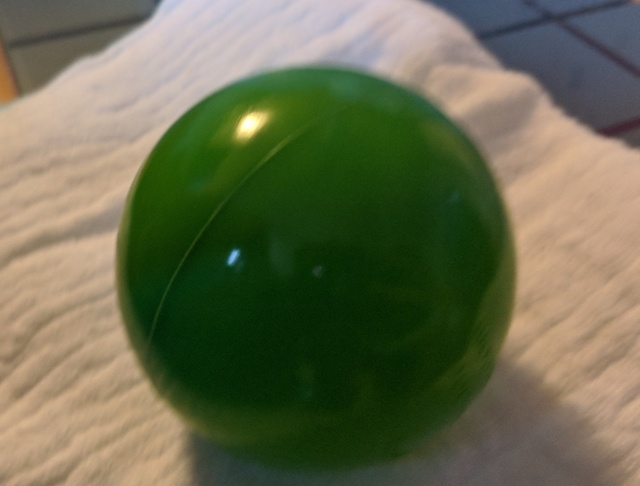ball: (107, 63, 517, 467)
